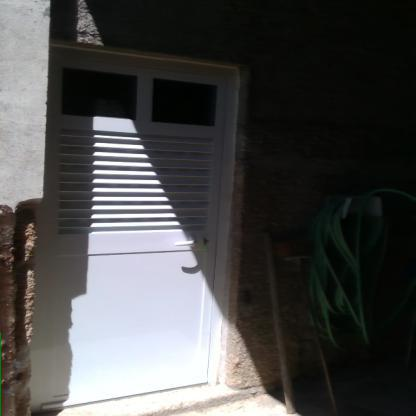door: (48, 58, 210, 390)
lever: (176, 237, 200, 248)
